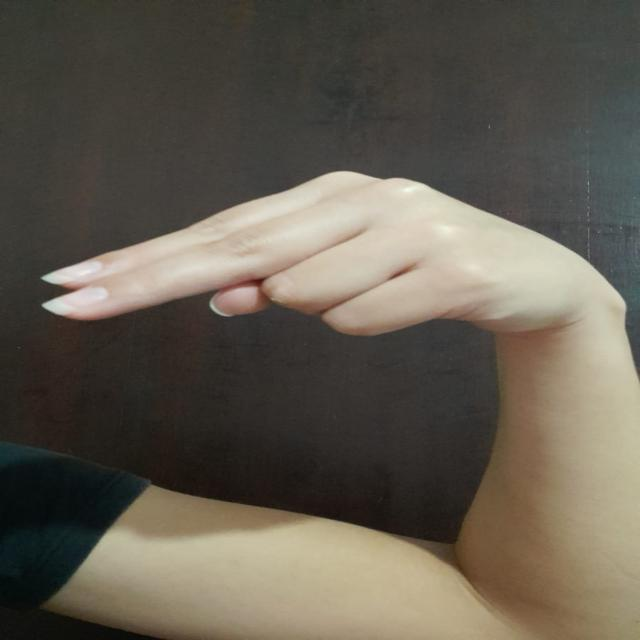N: (32, 158, 616, 342)
